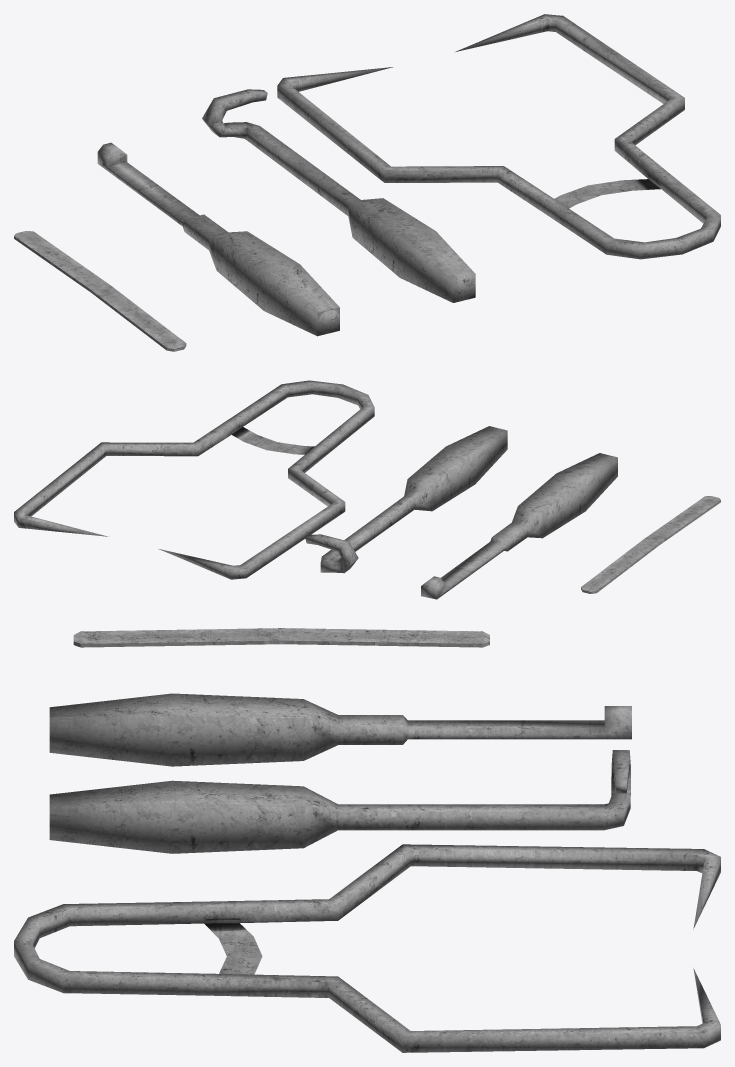
The model's file is Tools.fbx.
The picture shows the model from 3 angles, top to bottom: view 1: azimuth 30°, elevation 25°; view 2: azimuth 150°, elevation 25°; view 3: azimuth 270°, elevation 25°; orthographic projection. The views are drawn at different scales.
Parts seen in each view (by area): view 1: Tools; view 2: Tools; view 3: Tools.
Boxes of the visible parts, x1=… form: Tools: x1=14, y1=14, x2=720, y2=351; Tools: x1=14, y1=380, x2=720, y2=599; Tools: x1=14, y1=628, x2=720, y2=1052.
Size of the model in its own units: 75.1 by 6.33 by 54.55.
Materials: 1 (1 with a texture image).
